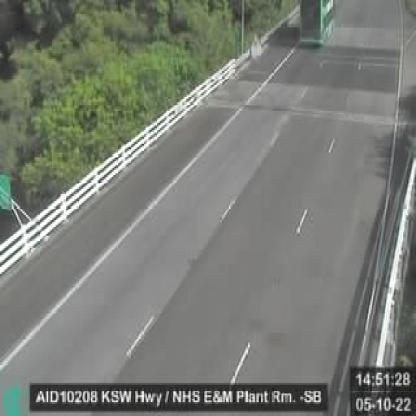Bus: (299, 0, 334, 47)
